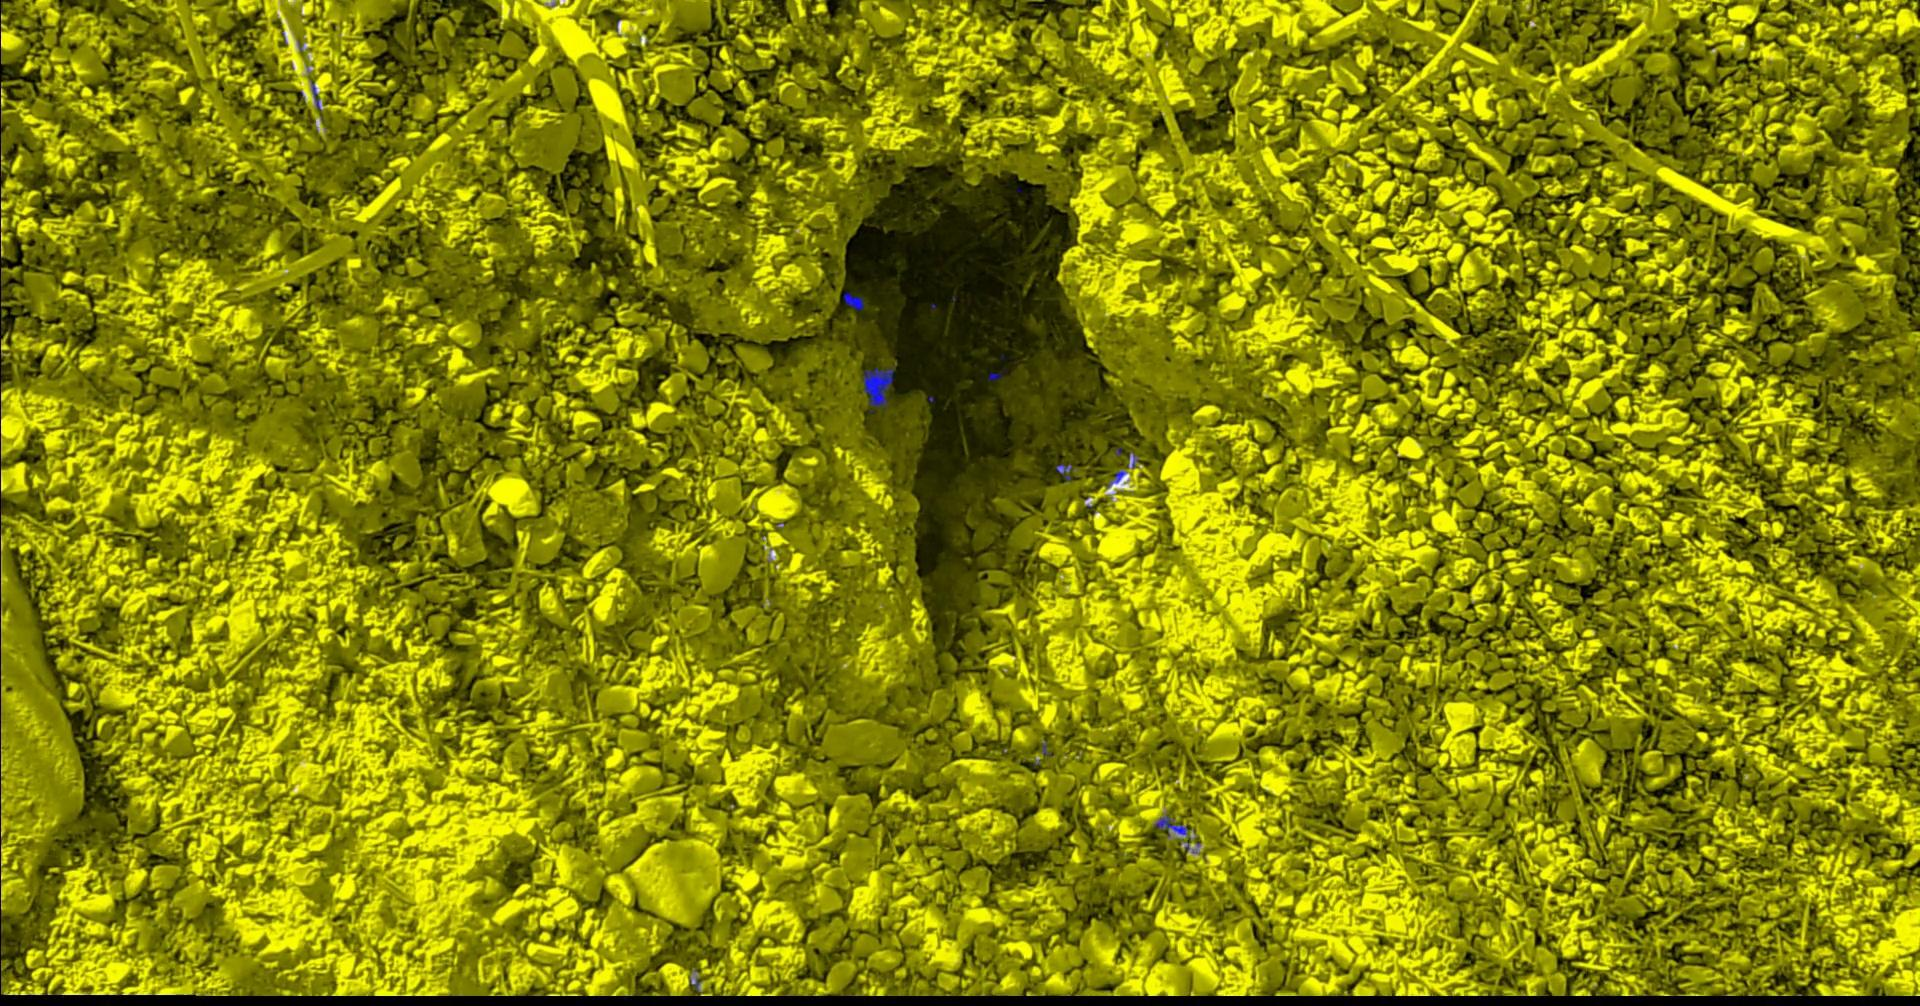ant: (1153, 815, 1196, 854), (862, 365, 894, 412), (842, 291, 863, 310), (1055, 464, 1074, 481), (1106, 470, 1125, 486)
